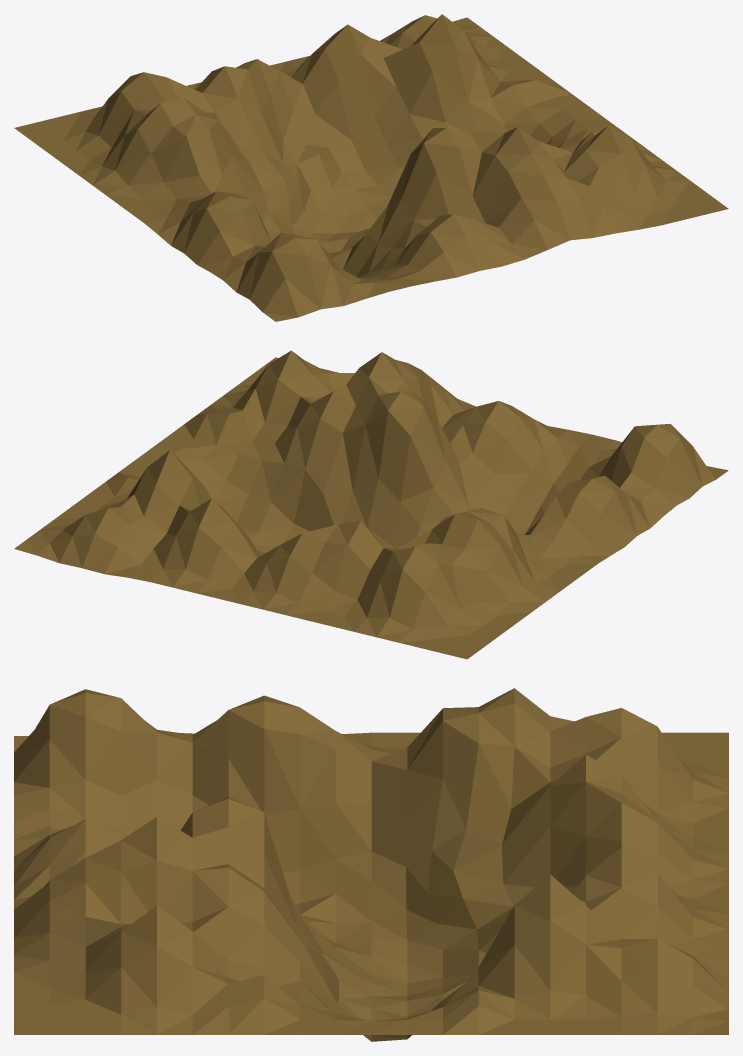
File: reeftype2.fbx
The picture shows the model from 3 angles, top to bottom: view 1: azimuth 30°, elevation 25°; view 2: azimuth 150°, elevation 25°; view 3: azimuth 270°, elevation 25°; orthographic projection. The views are drawn at different scales.
Visible parts, largest first — view 1: reef1; view 2: reef1; view 3: reef1.
Part boxes in pixels (left/top/right/bottom): reef1: left=14, top=14, right=728, bottom=321; reef1: left=14, top=350, right=728, bottom=659; reef1: left=14, top=688, right=728, bottom=1041.
Size of the model in its own units: 11.33 by 3.71 by 11.33.
